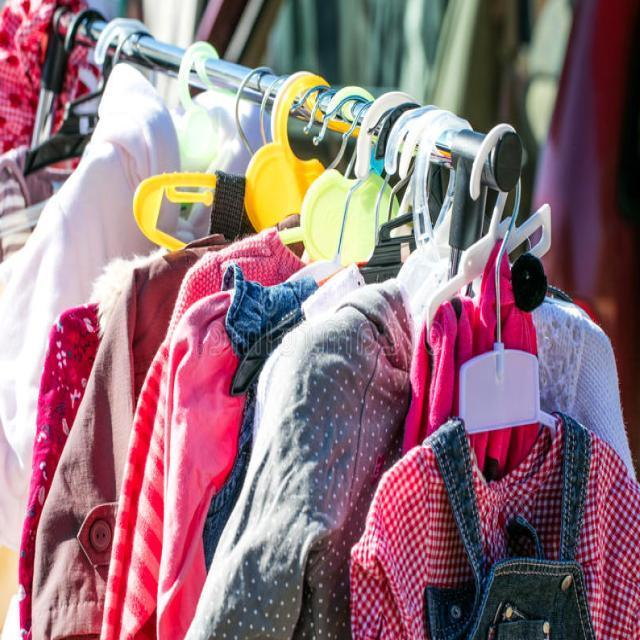clothes: (213, 366, 590, 623)
